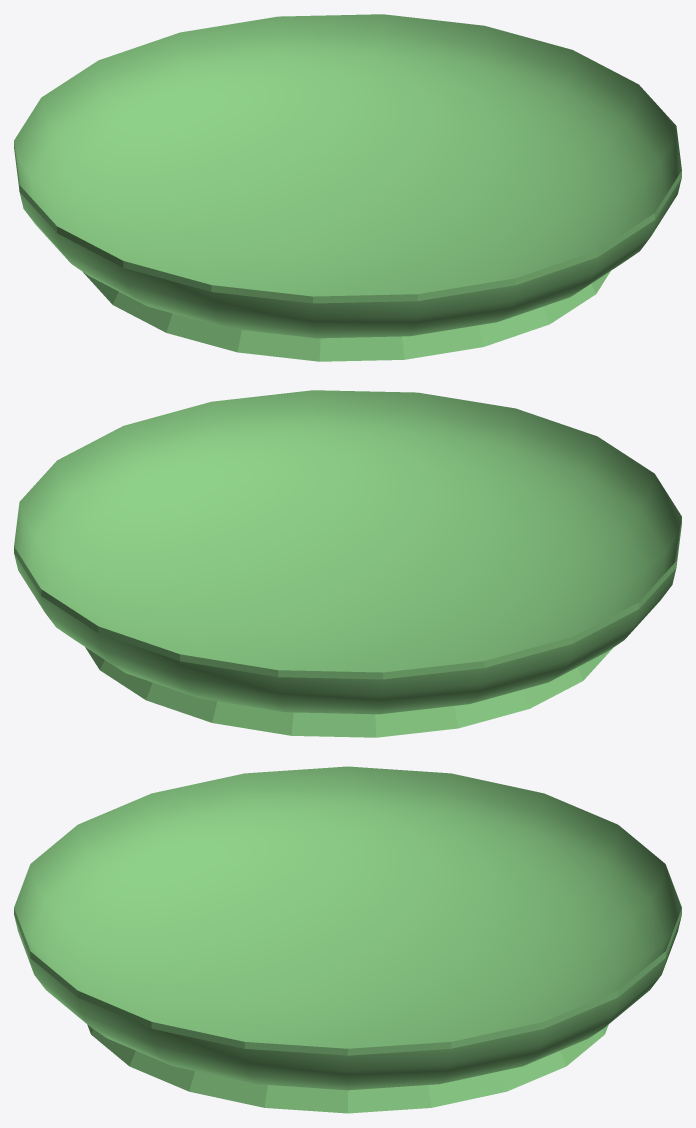
File: stage_oj_001.fbx
3 renders of one model, top to bottom at view 1: azimuth 30°, elevation 25°; view 2: azimuth 150°, elevation 25°; view 3: azimuth 270°, elevation 25°, orthographic.
Visible parts, largest first — view 1: pSphere1; view 2: pSphere1; view 3: pSphere1.
Part boxes in pixels (x1=…): pSphere1: x1=14, y1=14, x2=681, y2=361; pSphere1: x1=14, y1=390, x2=681, y2=737; pSphere1: x1=14, y1=766, x2=681, y2=1113.
Size of the model in its own units: 34.9 by 6.75 by 34.9.
